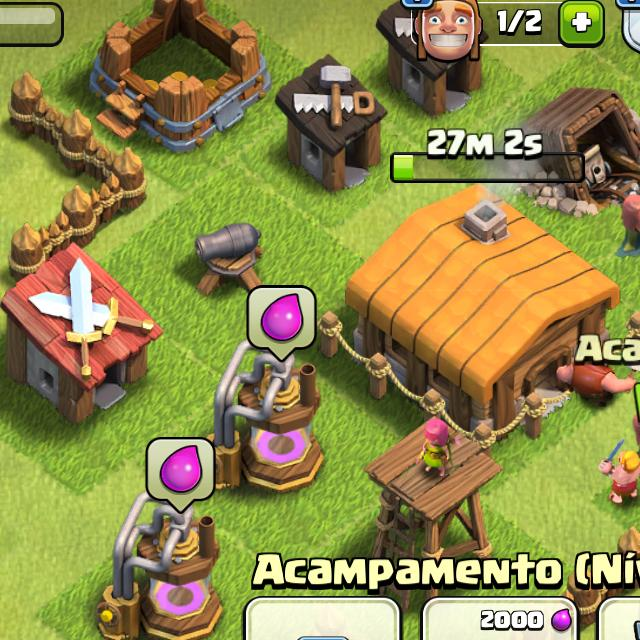Elixir: (144, 437, 217, 511), (247, 284, 317, 359)
